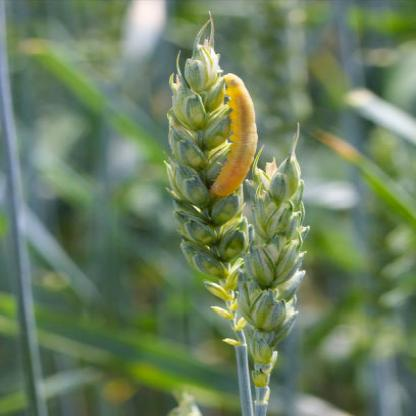sawfly: (190, 69, 263, 204)
